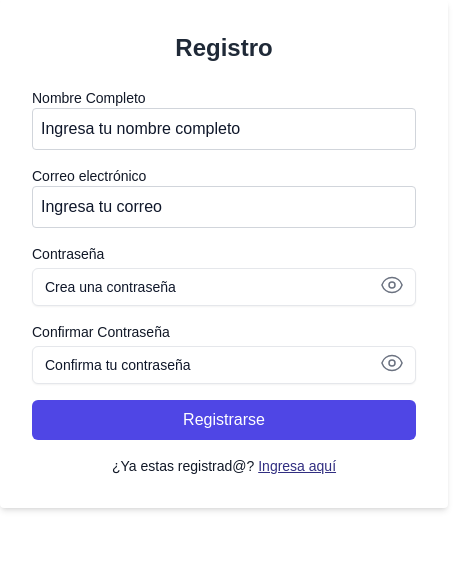
Test: RegisterForm › shows error if passwords do not match
In the field with test id "fullName": (224, 129) [32,108,416,150], type "Test User"
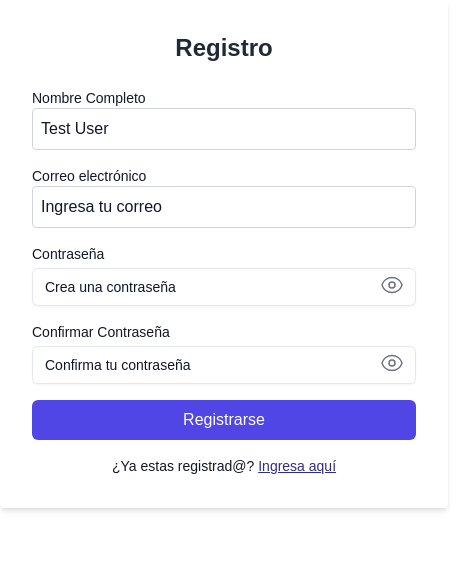
In the field with test id "email": (224, 207) [32,186,416,228], type "test@example.com"
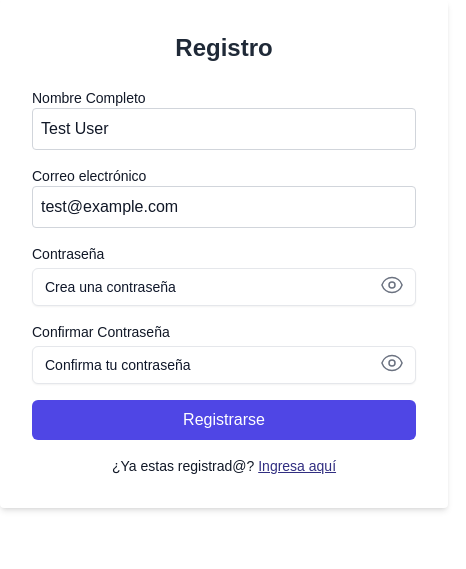
In the password field with test id "password": (224, 287) [32,268,416,306], type "Password123!"
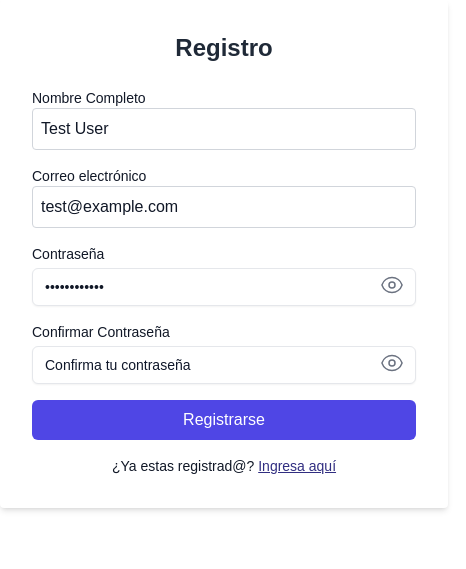
In the password field with test id "repeatPassword": (224, 365) [32,346,416,384], type "Password123"
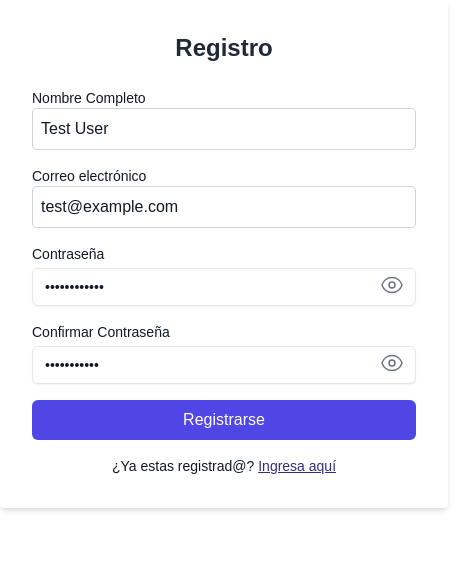
Click the button "Registrarse": (224, 420) [32,400,416,440]
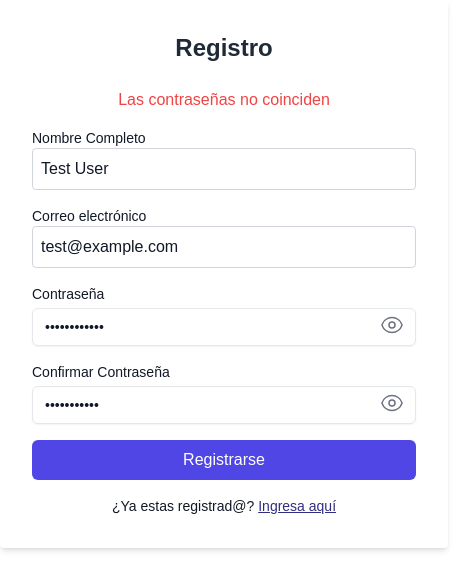
Now the text "Las contraseñas no coinciden" is shown, box [118,91,330,108]
